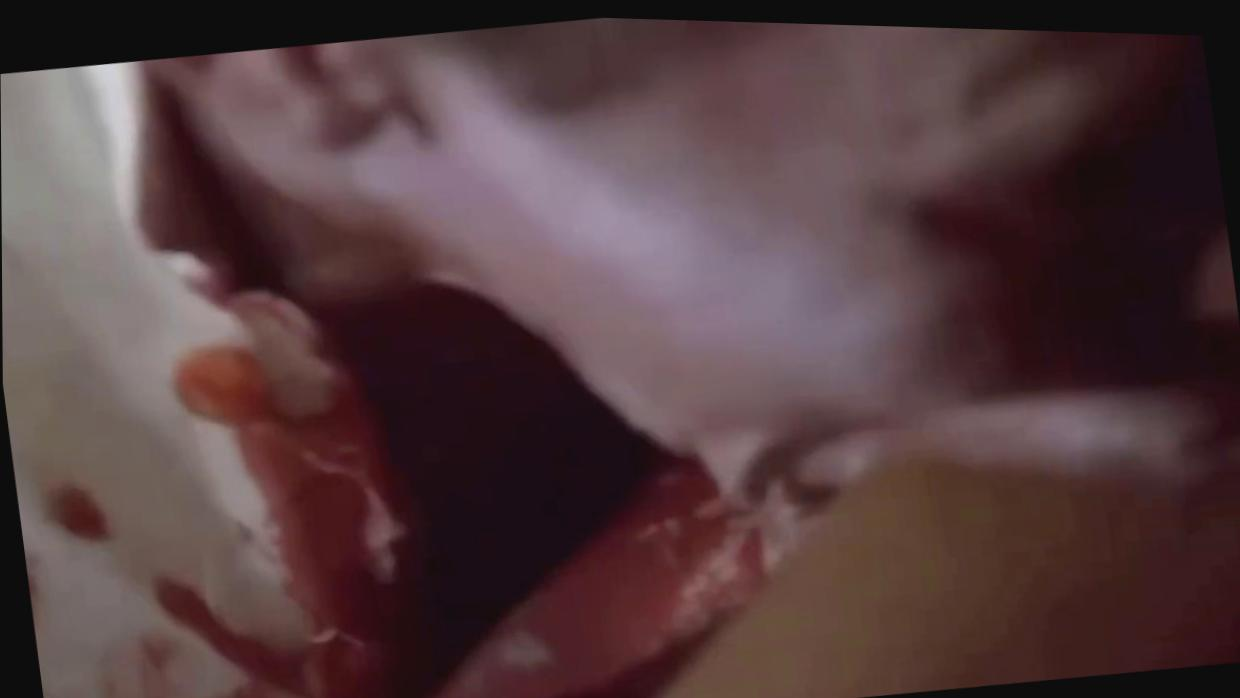Fire: (42, 279, 767, 698)
